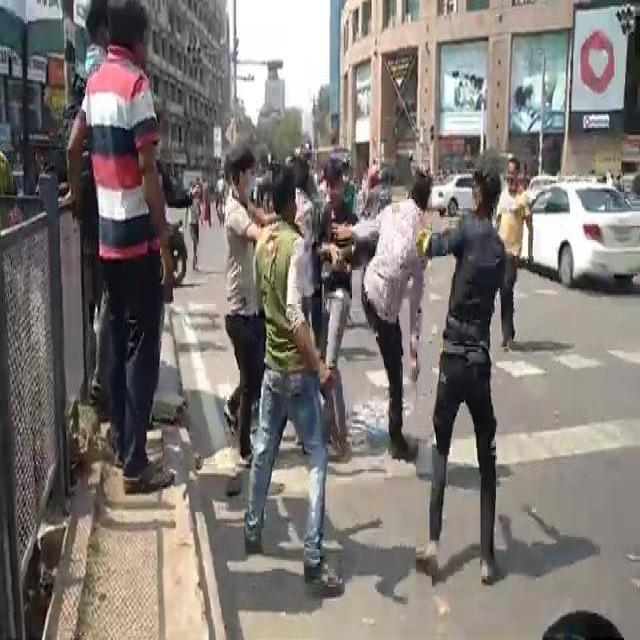fight: (214, 107, 500, 617), (59, 0, 192, 526)
